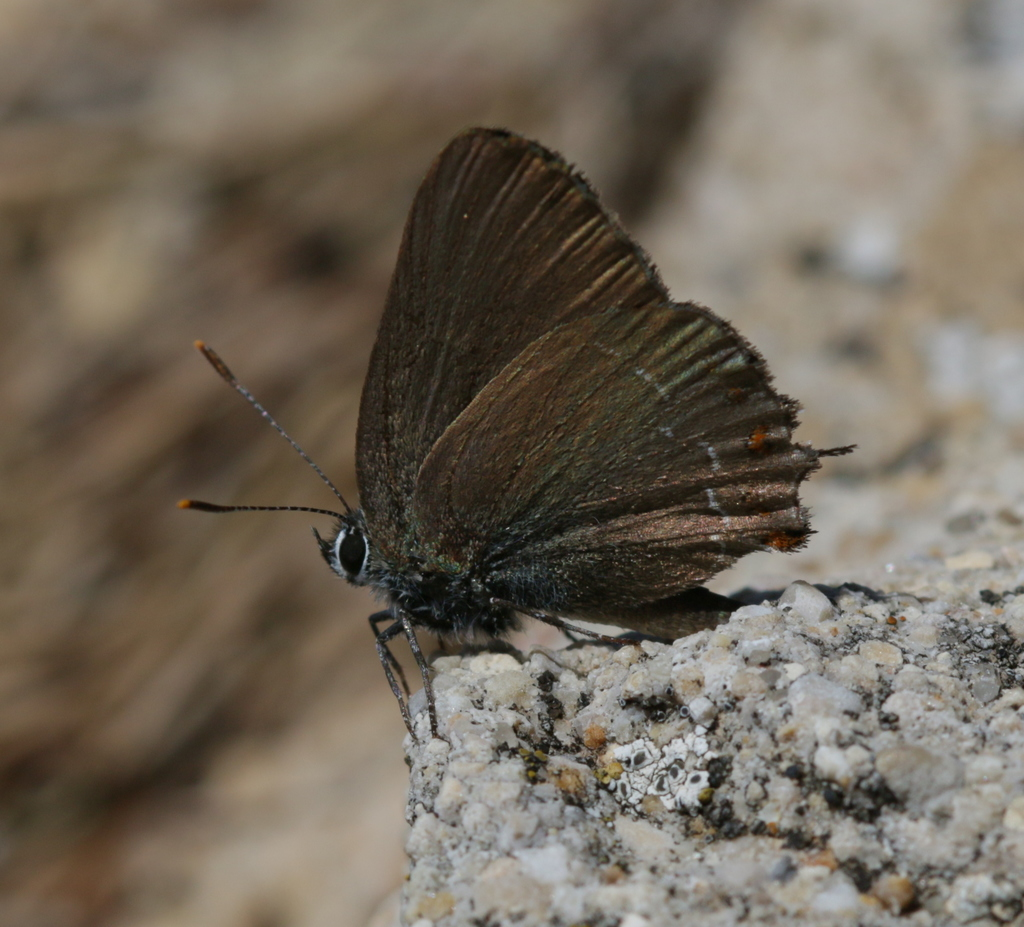Butterfly: (188, 121, 812, 683)
